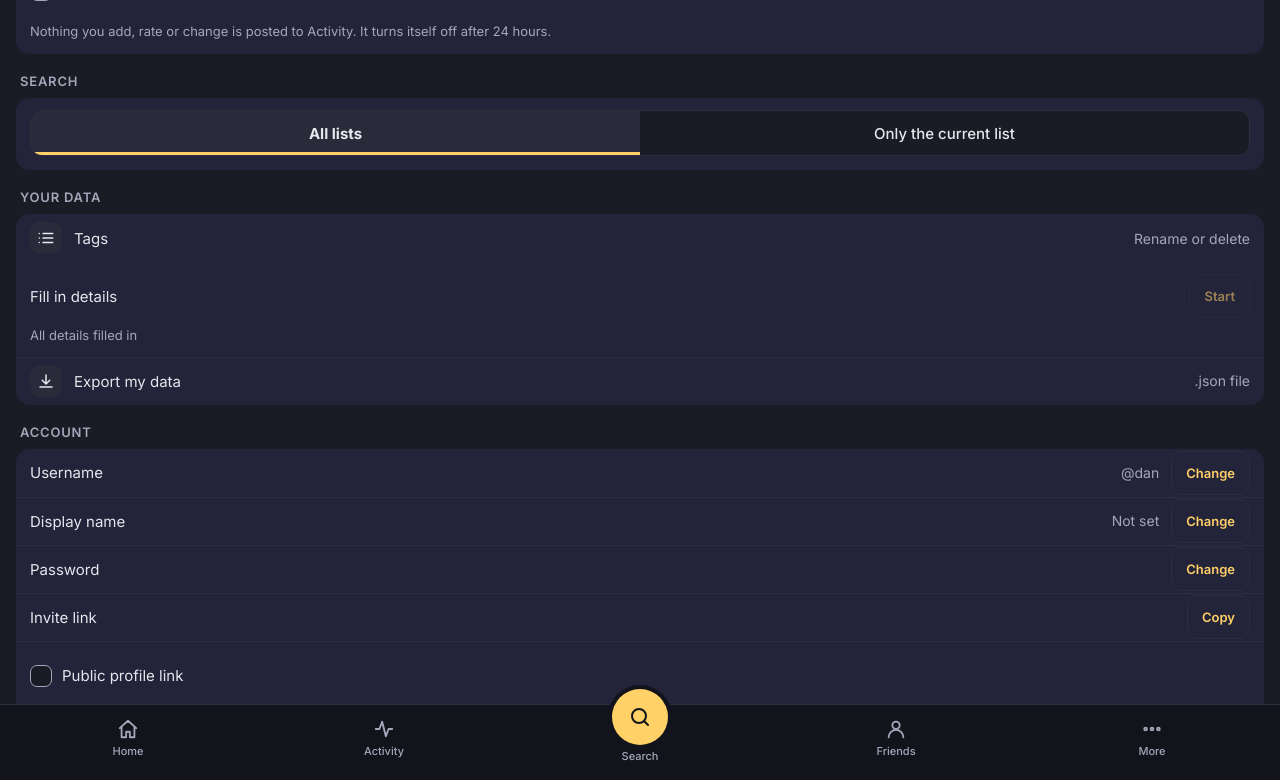
Scenario: Settings: Export my data › fetches /api/export with credentials and downloads it as a dated .json file, then frees the blob
(page scrolled)
Click the button "Export my data .json file": (46, 381) [16,356,1264,404]
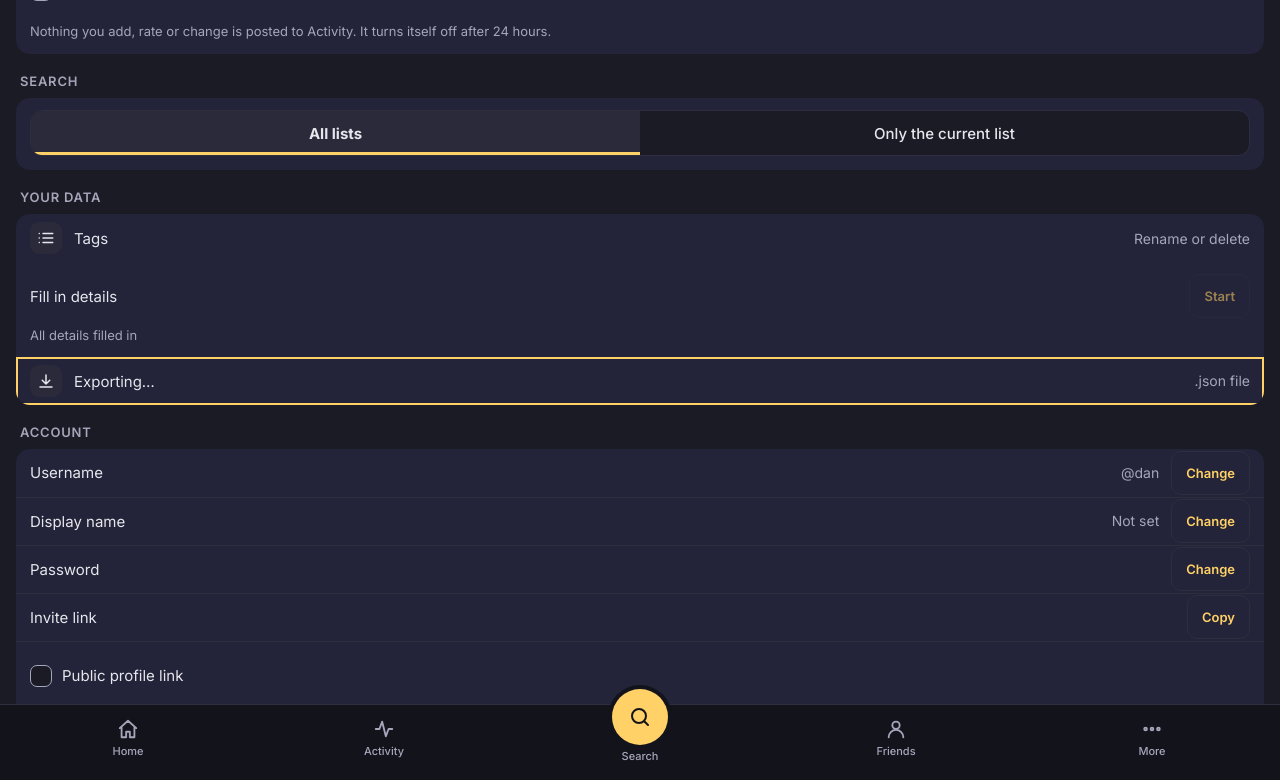
Expected: the button "Exporting… .json file" is disabled, [16,356,1264,404]
Press Enter
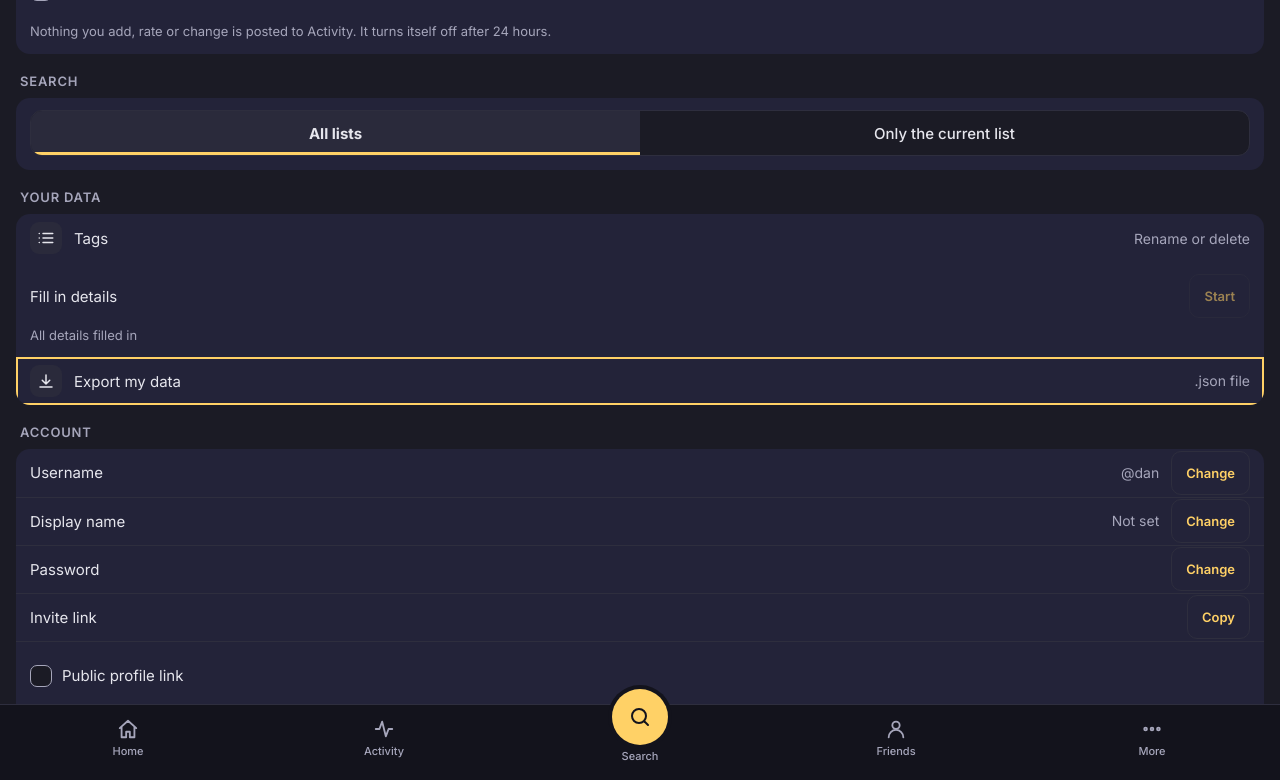
Expected: the button "Export my data .json file" is enabled, [16,356,1264,404]
